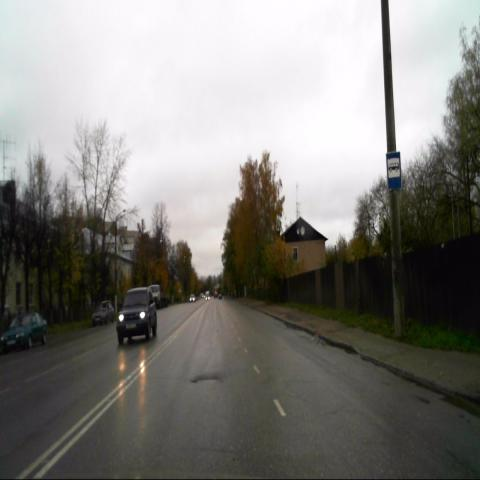5_16: (386, 152, 402, 192)
